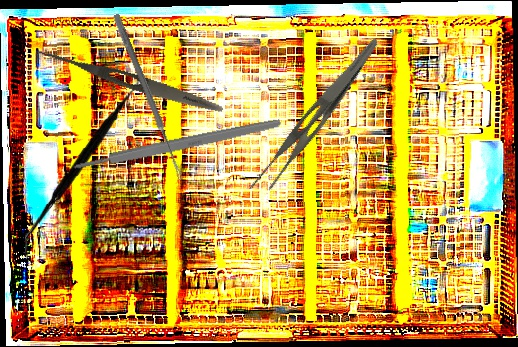Dressing Forceps: (245, 24, 382, 206), (31, 43, 226, 118)
Scalpel Handle: (70, 115, 284, 174)
Spatula Surgical: (24, 60, 142, 264)
Surgical Spoon: (111, 13, 186, 181)
